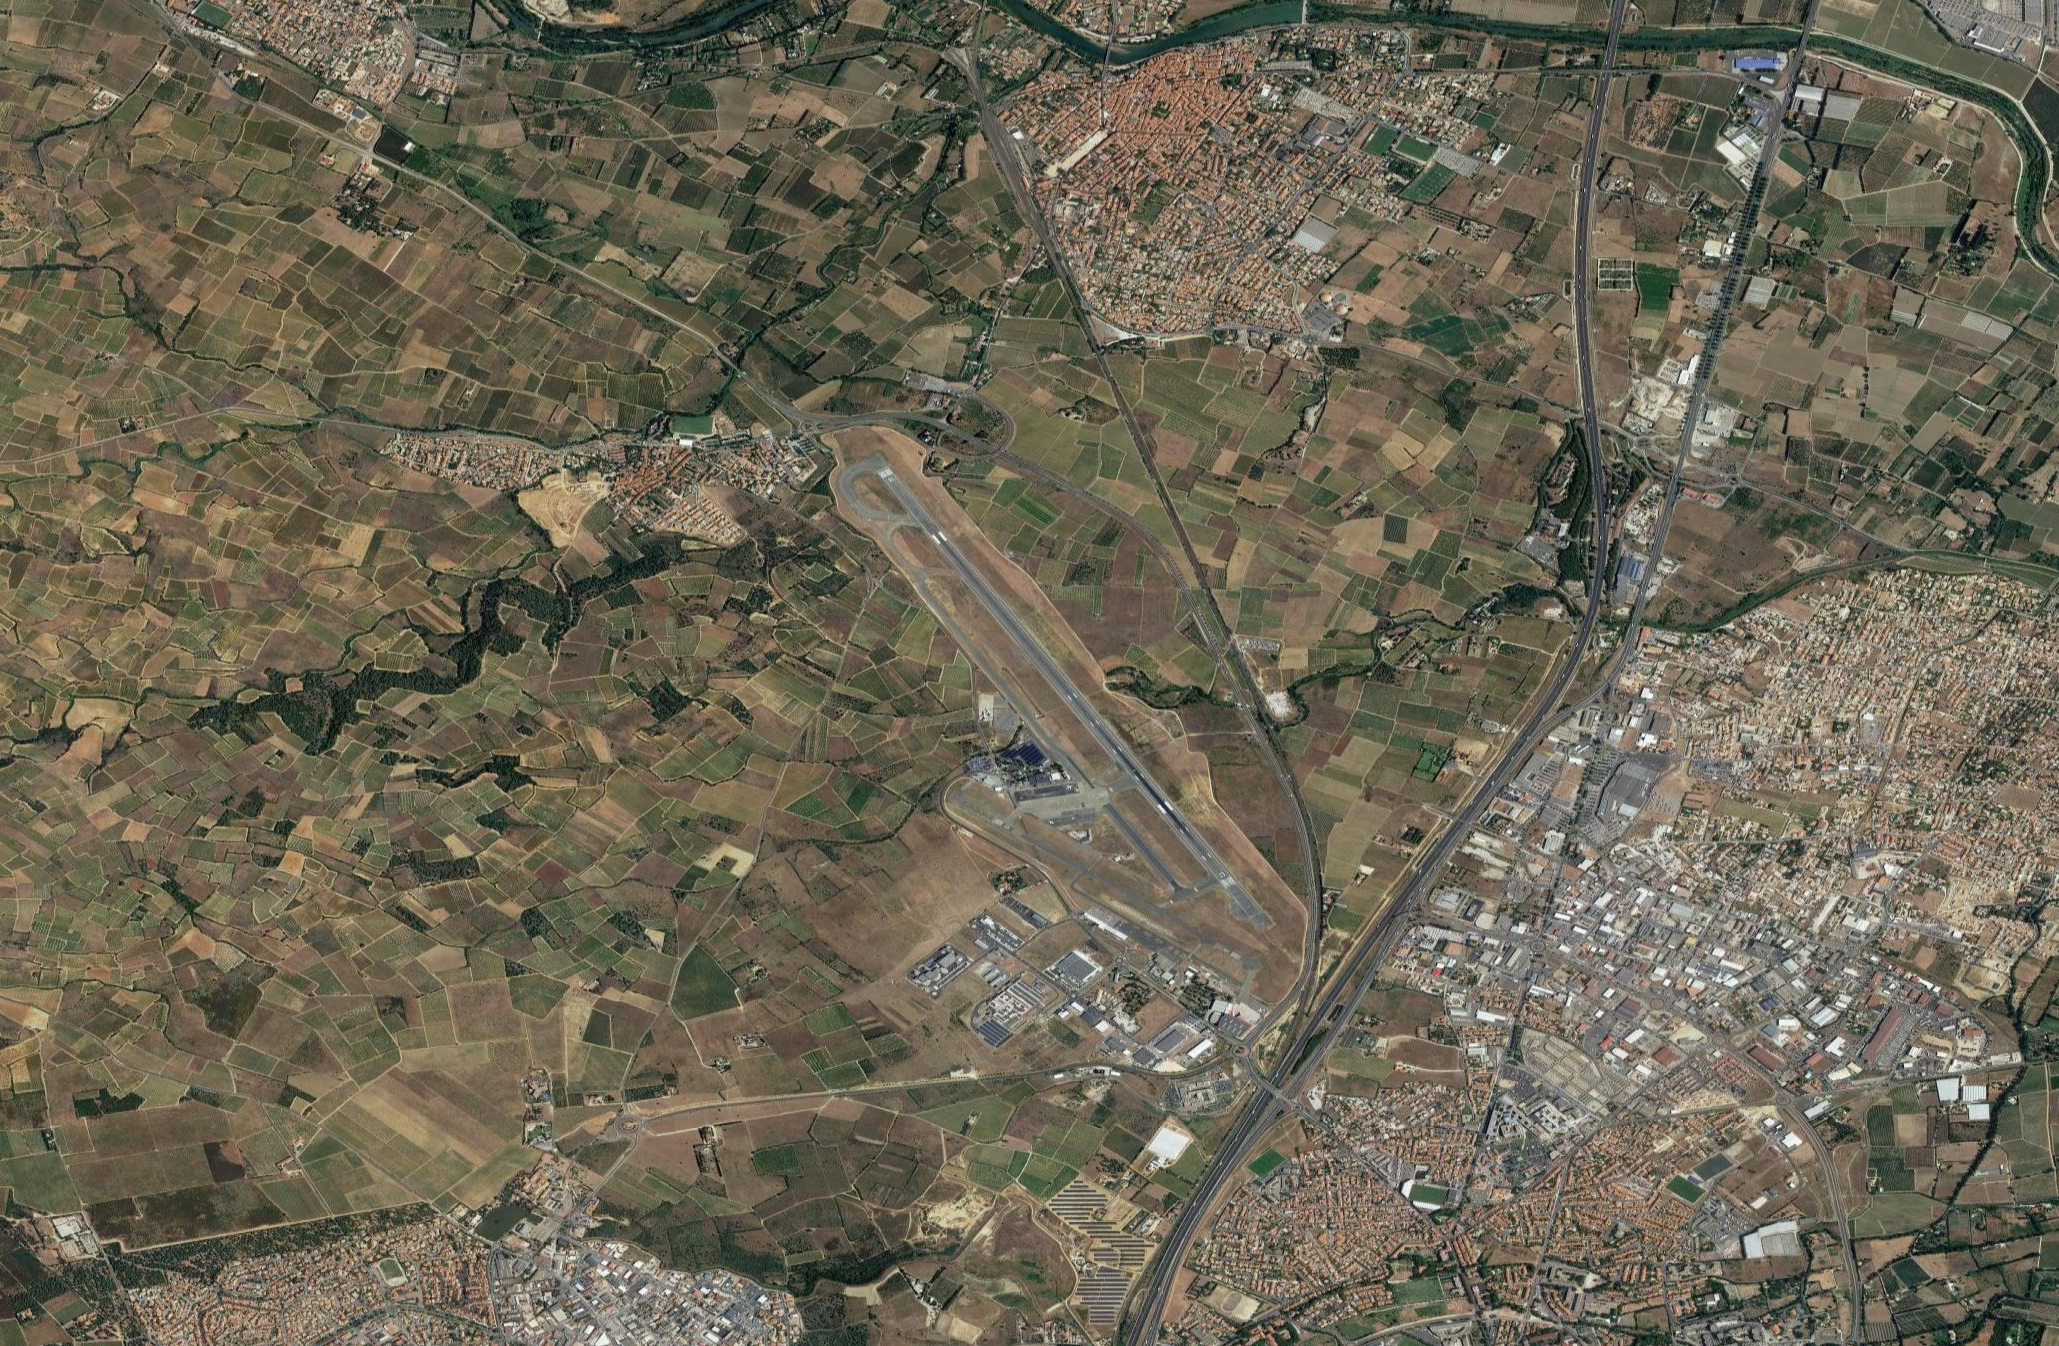airport: (834, 448, 1278, 1070)
motorway: (1266, 945, 1368, 1095), (1451, 694, 1560, 829), (1361, 823, 1455, 948), (1126, 1203, 1200, 1346), (1188, 1083, 1271, 1208), (1581, 2, 1629, 173), (1551, 544, 1605, 696), (1572, 170, 1593, 388), (1581, 383, 1605, 545)
